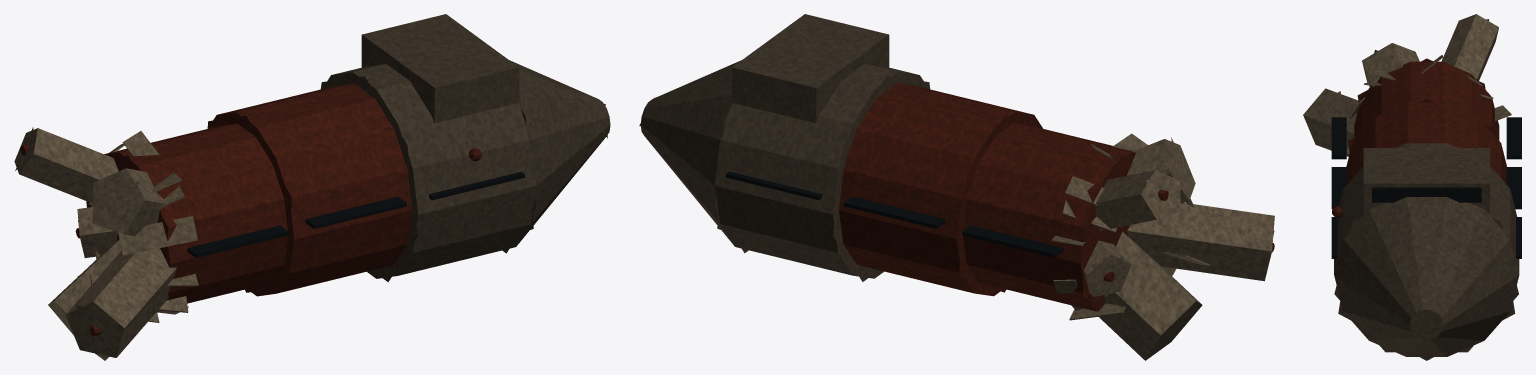
The model's file is wreck_liner_bow.glb.
The picture shows the model from 3 angles, left to right: view 1: azimuth 30°, elevation 25°; view 2: azimuth 150°, elevation 25°; view 3: azimuth 270°, elevation 25°; orthographic projection. The views are drawn at different scales.
Parts seen in each view (by area): view 1: LOD0_wreck_liner_bow_Material_Heat, LOD0_wreck_liner_bow_Material_Hull, LOD0_wreck_liner_bow_Material_Insulation, LOD1_wreck_liner_bow_Material_Hull, LOD0_wreck_liner_bow_Material_Glass, LOD2_wreck_liner_bow_Material_Insulation, LOD2_wreck_liner_bow_Material_Heat; view 2: LOD0_wreck_liner_bow_Material_Heat, LOD0_wreck_liner_bow_Material_Hull, LOD0_wreck_liner_bow_Material_Insulation, LOD0_wreck_liner_bow_Material_Glass, LOD2_wreck_liner_bow_Material_Heat, LOD1_wreck_liner_bow_Material_Hull, LOD2_wreck_liner_bow_Material_Insulation; view 3: LOD0_wreck_liner_bow_Material_Hull, LOD0_wreck_liner_bow_Material_Heat, LOD0_wreck_liner_bow_Material_Insulation, LOD1_wreck_liner_bow_Material_Hull, LOD0_wreck_liner_bow_Material_Glass, LOD2_wreck_liner_bow_Material_Heat.
Part boxes in pixels (x1,y1,x2,y2): LOD0_wreck_liner_bow_Material_Heat: (20,83,481,336); LOD0_wreck_liner_bow_Material_Hull: (322,14,610,278); LOD0_wreck_liner_bow_Material_Insulation: (14,128,198,360); LOD1_wreck_liner_bow_Material_Hull: (320,60,609,282); LOD0_wreck_liner_bow_Material_Glass: (187,171,524,257); LOD2_wreck_liner_bow_Material_Insulation: (15,127,139,357); LOD2_wreck_liner_bow_Material_Heat: (91,116,291,292); LOD0_wreck_liner_bow_Material_Heat: (838,83,1274,311); LOD0_wreck_liner_bow_Material_Hull: (640,14,923,278); LOD0_wreck_liner_bow_Material_Insulation: (1051,133,1274,360); LOD0_wreck_liner_bow_Material_Glass: (726,171,1063,257); LOD2_wreck_liner_bow_Material_Heat: (959,116,1132,304); LOD1_wreck_liner_bow_Material_Hull: (639,61,930,281); LOD2_wreck_liner_bow_Material_Insulation: (1089,137,1274,296); LOD0_wreck_liner_bow_Material_Hull: (1334,143,1519,356); LOD0_wreck_liner_bow_Material_Heat: (1332,61,1506,217); LOD0_wreck_liner_bow_Material_Insulation: (1303,14,1511,156); LOD1_wreck_liner_bow_Material_Hull: (1334,197,1518,360); LOD0_wreck_liner_bow_Material_Glass: (1331,117,1521,258); LOD2_wreck_liner_bow_Material_Heat: (1348,58,1493,152).
Bounding box in the file's own units: 68.63 × 24.43 × 25.99.
4 materials, 4 textured.
